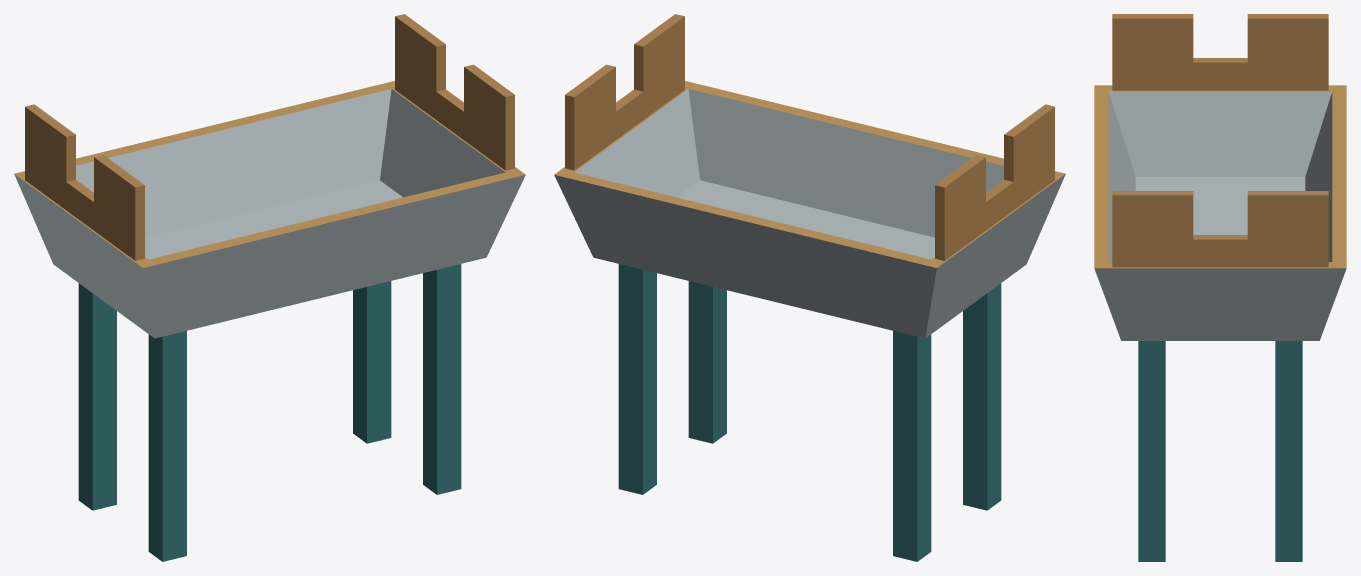
The picture shows the model from 3 angles, left to right: view 1: azimuth 30°, elevation 25°; view 2: azimuth 150°, elevation 25°; view 3: azimuth 270°, elevation 25°; orthographic projection. The views are drawn at different scales.
Visible parts, largest first — view 1: ContinuousTaperedCatchBasin, RaisedNotchedEndRest_Right, RaisedNotchedEndRest_Left, FullGroundLeg_LF, FullGroundLeg_RF, FullGroundLeg_LB, FullGroundLeg_RB; view 2: ContinuousTaperedCatchBasin, RaisedNotchedEndRest_Right, RaisedNotchedEndRest_Left, FullGroundLeg_LB, FullGroundLeg_RB, FullGroundLeg_LF, FullGroundLeg_RF; view 3: ContinuousTaperedCatchBasin, RaisedNotchedEndRest_Left, RaisedNotchedEndRest_Right, FullGroundLeg_RB, FullGroundLeg_RF.
Boxes of the visible parts, <box> form: ContinuousTaperedCatchBasin: <box>14,81,525,338</box>; RaisedNotchedEndRest_Right: <box>395,14,514,170</box>; RaisedNotchedEndRest_Left: <box>25,104,144,260</box>; FullGroundLeg_LF: <box>148,331,186,561</box>; FullGroundLeg_RF: <box>423,264,461,494</box>; FullGroundLeg_LB: <box>78,283,116,510</box>; FullGroundLeg_RB: <box>353,281,391,443</box>; ContinuousTaperedCatchBasin: <box>554,81,1065,338</box>; RaisedNotchedEndRest_Right: <box>565,14,684,170</box>; RaisedNotchedEndRest_Left: <box>935,104,1054,260</box>; FullGroundLeg_LB: <box>893,331,931,561</box>; FullGroundLeg_RB: <box>618,264,656,494</box>; FullGroundLeg_LF: <box>963,283,1001,510</box>; FullGroundLeg_RF: <box>688,281,726,443</box>; ContinuousTaperedCatchBasin: <box>1094,85,1346,340</box>; RaisedNotchedEndRest_Left: <box>1112,14,1328,90</box>; RaisedNotchedEndRest_Right: <box>1112,191,1328,267</box>; FullGroundLeg_RB: <box>1275,341,1302,561</box>; FullGroundLeg_RF: <box>1138,341,1165,561</box>.
Bounding box in the file's own units: 1.2 × 1.18 × 0.7.
